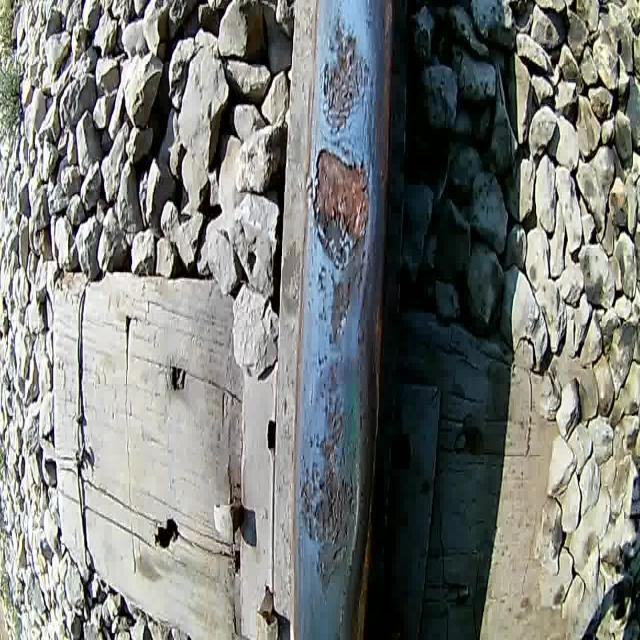Cracks: (318, 56, 369, 138), (358, 67, 381, 191), (356, 194, 372, 314), (342, 265, 354, 320)
Spallings: (300, 411, 357, 582), (311, 148, 373, 244)
Squats: (300, 350, 366, 604), (306, 144, 374, 350), (316, 12, 374, 137)
